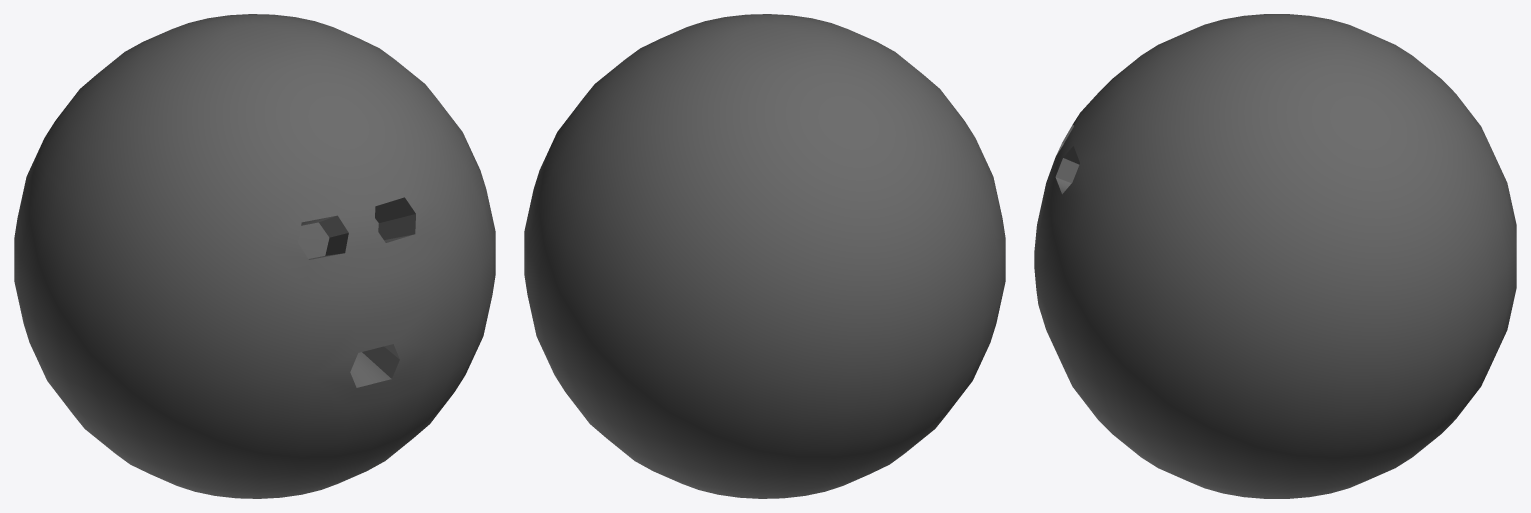
Rendered from BowlingBall.fbx.
The picture shows the model from 3 angles, left to right: view 1: azimuth 30°, elevation 25°; view 2: azimuth 150°, elevation 25°; view 3: azimuth 270°, elevation 25°; orthographic projection.
Visible parts, largest first — view 1: BowlingBall; view 2: BowlingBall; view 3: BowlingBall.
Part boxes in pixels (bbox=[...]): BowlingBall: bbox=[14, 14, 495, 498]; BowlingBall: bbox=[524, 14, 1005, 498]; BowlingBall: bbox=[1034, 14, 1516, 498].
Size of the model in its own units: 147 by 148 by 148.
